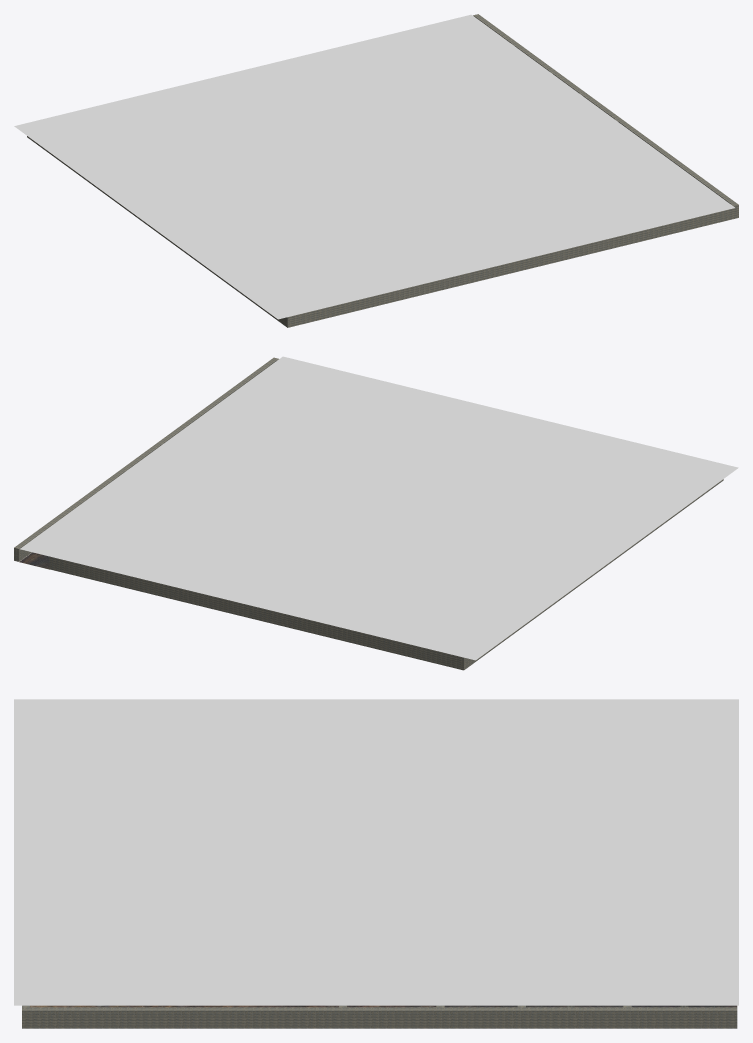
Rendered from MazeMap2ceiling.fbx.
3 views of the same model, one above another, from view 1: azimuth 30°, elevation 25°; view 2: azimuth 150°, elevation 25°; view 3: azimuth 270°, elevation 25° (orthographic). The views are drawn at different scales.
Parts seen in each view (by area): view 1: Plane, Walls; view 2: Plane, Walls; view 3: Plane, Walls, Floor.001.
Part boxes in pixels (x1,y1,x2,y2): Plane: (14, 14, 734, 319); Walls: (27, 14, 738, 327); Plane: (20, 356, 738, 660); Walls: (14, 357, 723, 670); Plane: (14, 699, 738, 1005); Walls: (22, 1005, 737, 1028); Floor.001: (30, 1005, 737, 1007).
Size of the model in its own units: 15285 by 470 by 15077.
